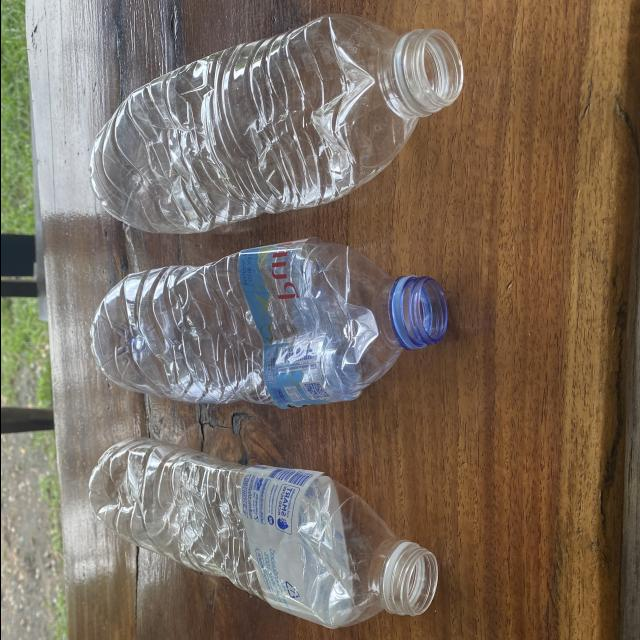plastik: (90, 14, 463, 233), (88, 438, 436, 628), (90, 239, 446, 408)
